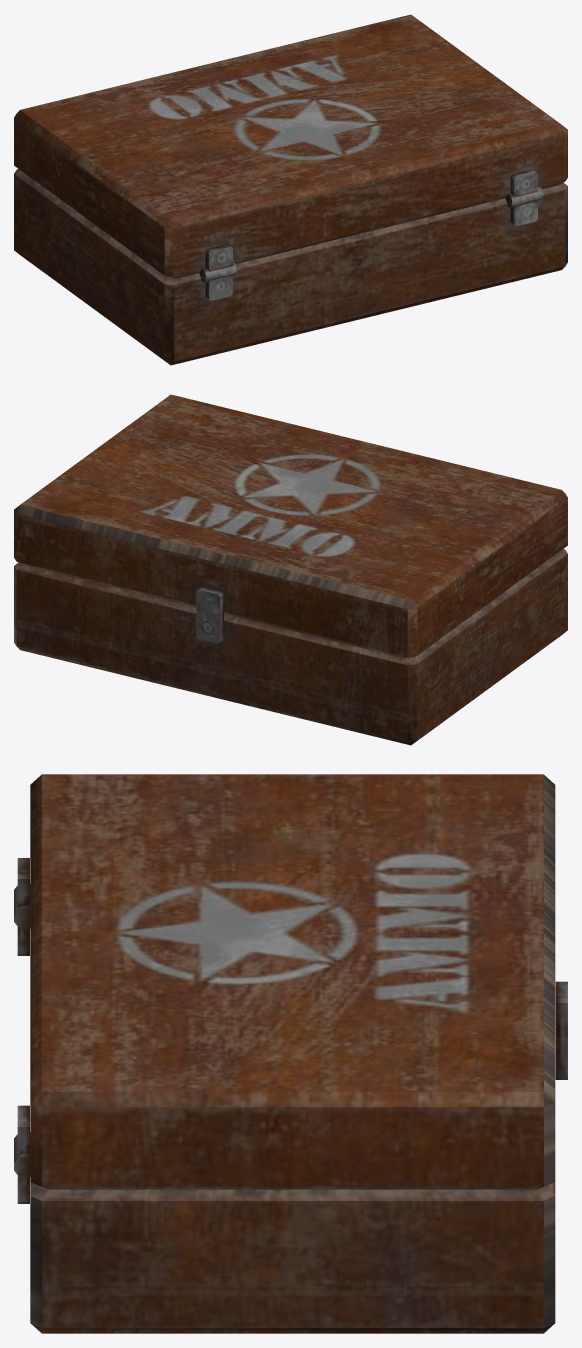
3 renders of one model, top to bottom at view 1: azimuth 30°, elevation 25°; view 2: azimuth 150°, elevation 25°; view 3: azimuth 270°, elevation 25°, orthographic. The views are drawn at different scales.
Visible parts, largest first — view 1: ammobox; view 2: ammobox; view 3: ammobox.
Boxes of the visible parts, left/top/right/bottom form: ammobox: left=14, top=14, right=567, bottom=365; ammobox: left=14, top=394, right=567, bottom=745; ammobox: left=14, top=774, right=567, bottom=1333.
Size of the model in its own units: 0.8716 by 0.3 by 0.6233.
1 material, 1 textured.
